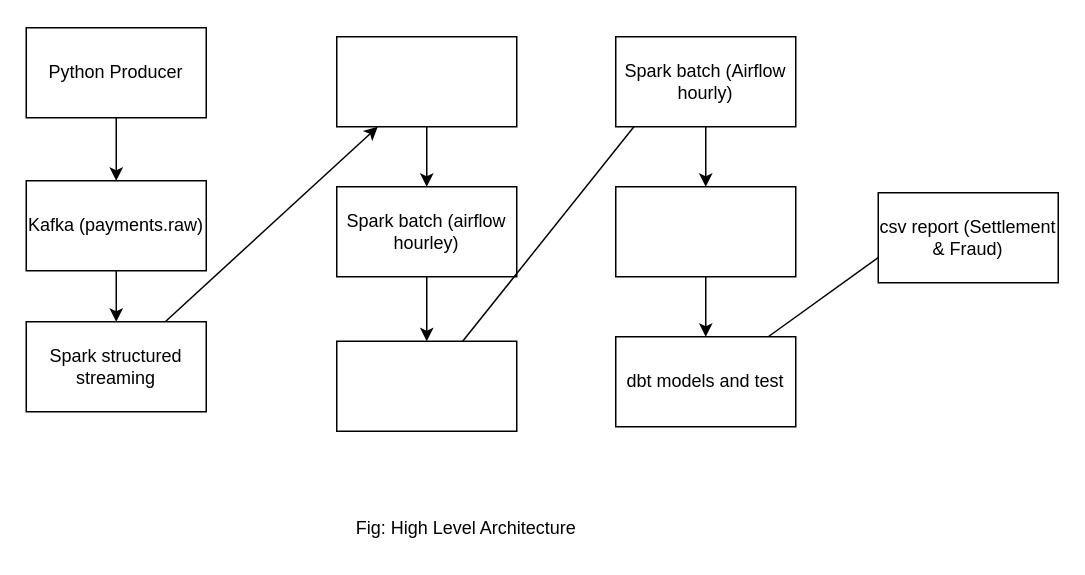
This 1085x575 diagram has some shape labels left out. The shapes that lost their labels are listed below. From the top down, each one's centre as x and y in pixels, then its label:
pixel 426 81: Bronze (Raw Parquet + Data lake)
pixel 705 231: Postgres Data Warehouse
pixel 426 385: Silver (clean parquet)
